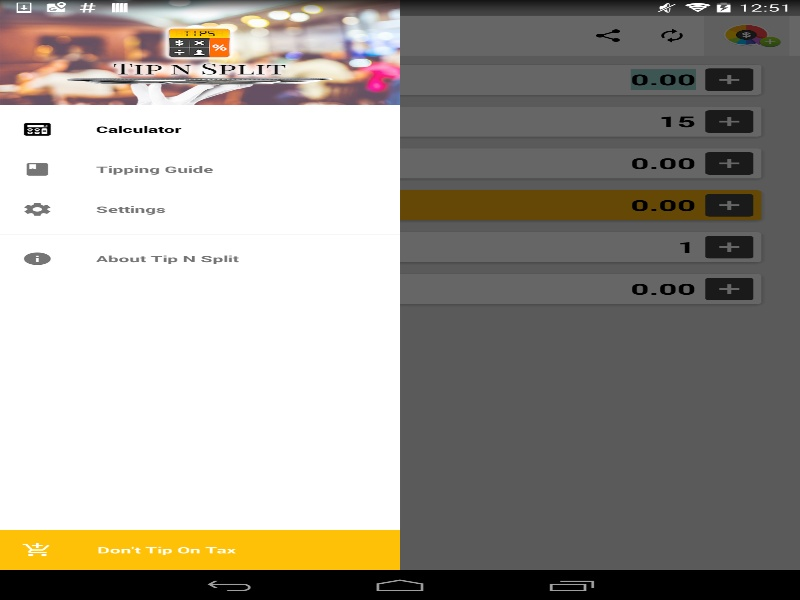Button: (10, 15, 85, 55)
Input: (386, 235, 696, 258), (386, 278, 696, 299), (386, 69, 696, 89), (386, 111, 696, 131), (386, 153, 696, 173), (386, 195, 696, 215)
